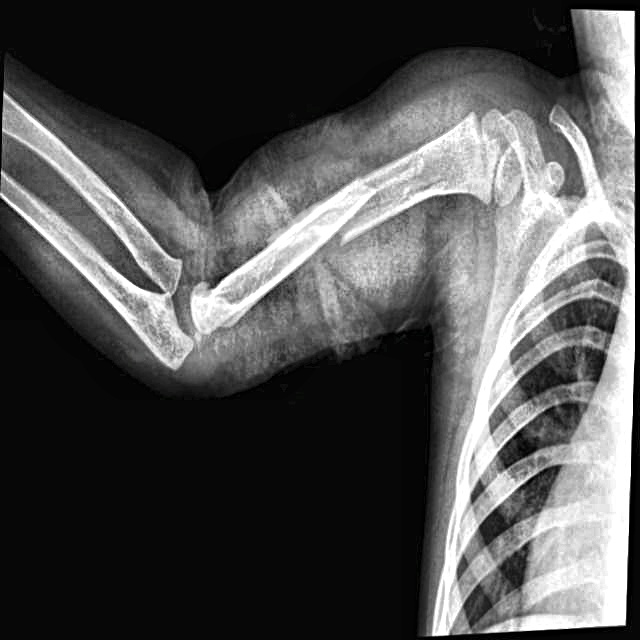Transverse: (322, 152, 391, 263)
